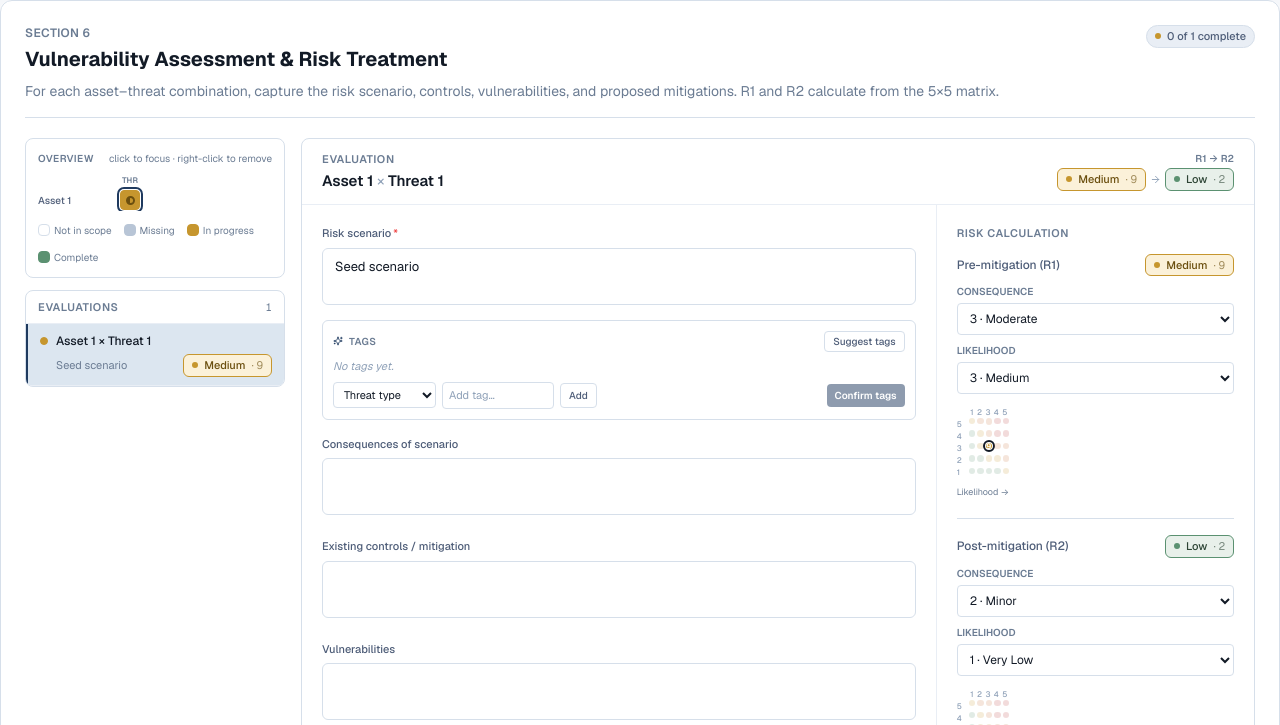
Scenario: prod mode (VITE_ENABLE_DEMO=false) › a 409 on save renders the exact reload affordance
Type " X" into the 1st text box with placeholder "Describe the threat scenario..." at (619, 276), box [322,248,916,304]
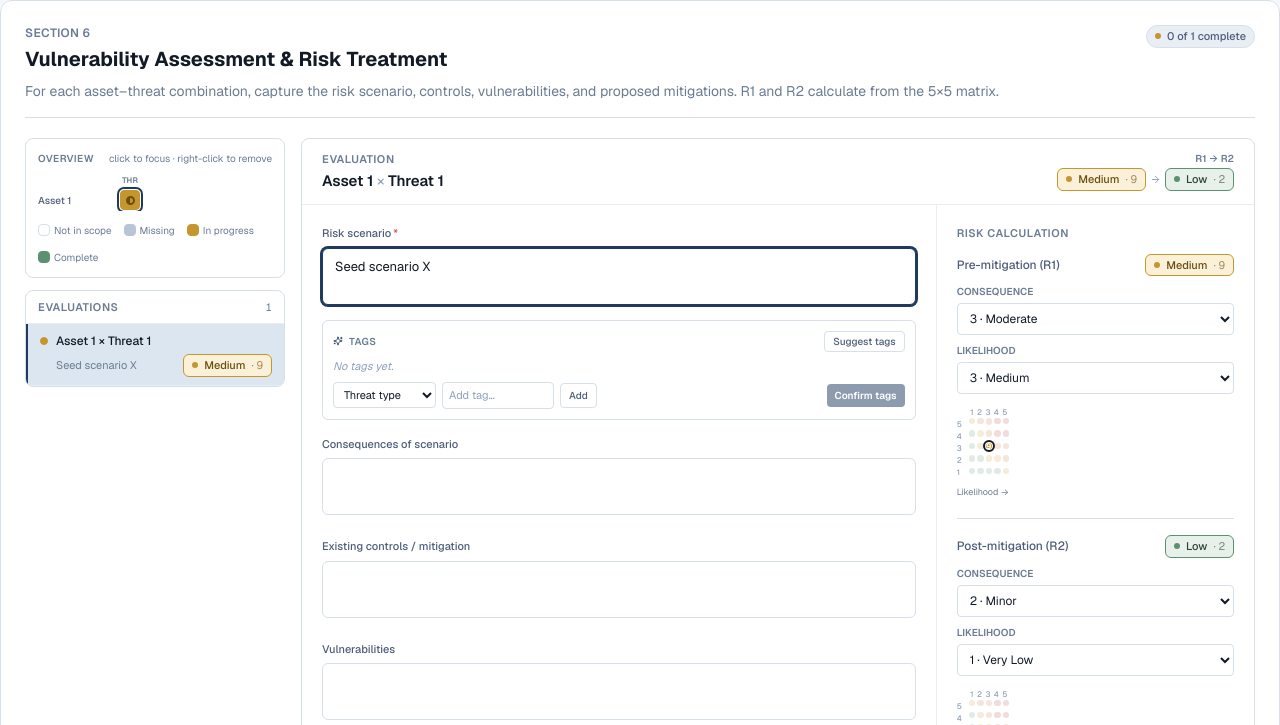
Press Tab
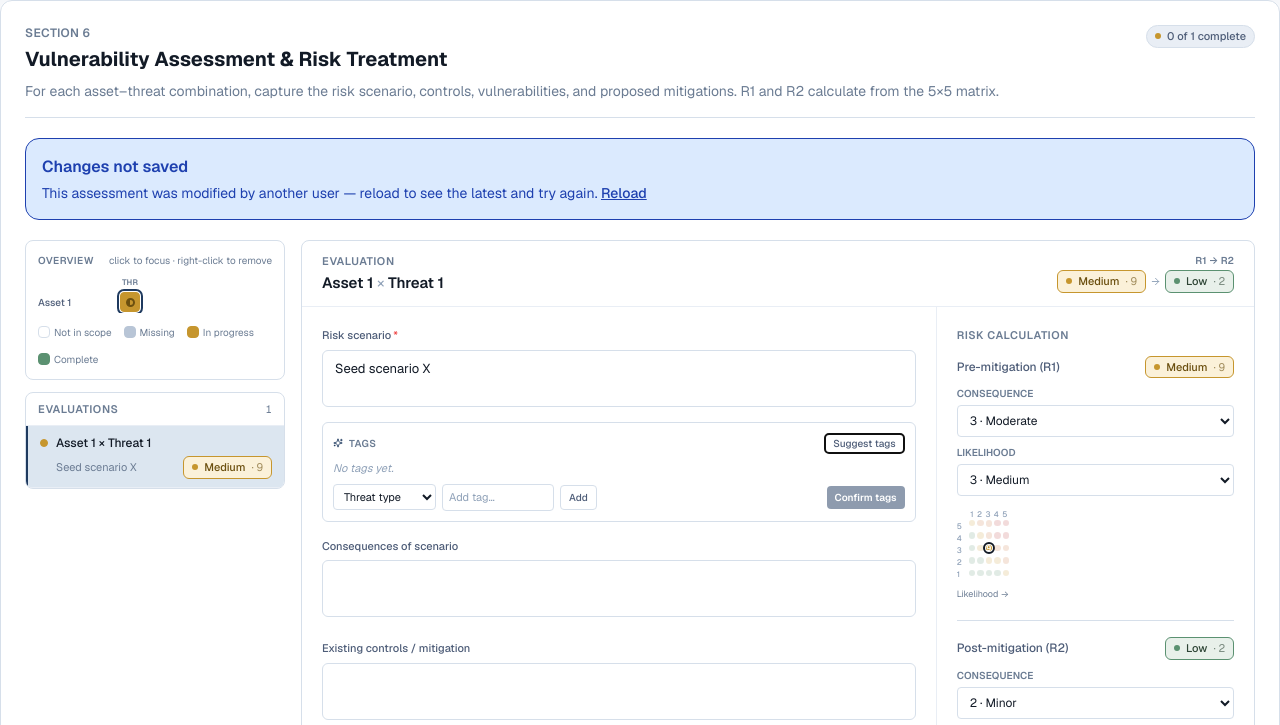
Expected: the text "This assessment was modified by another user — reload to see the latest and try again." is shown, [42,184,598,202]
Expected: the button "Reload" is shown, [601,183,647,203]
